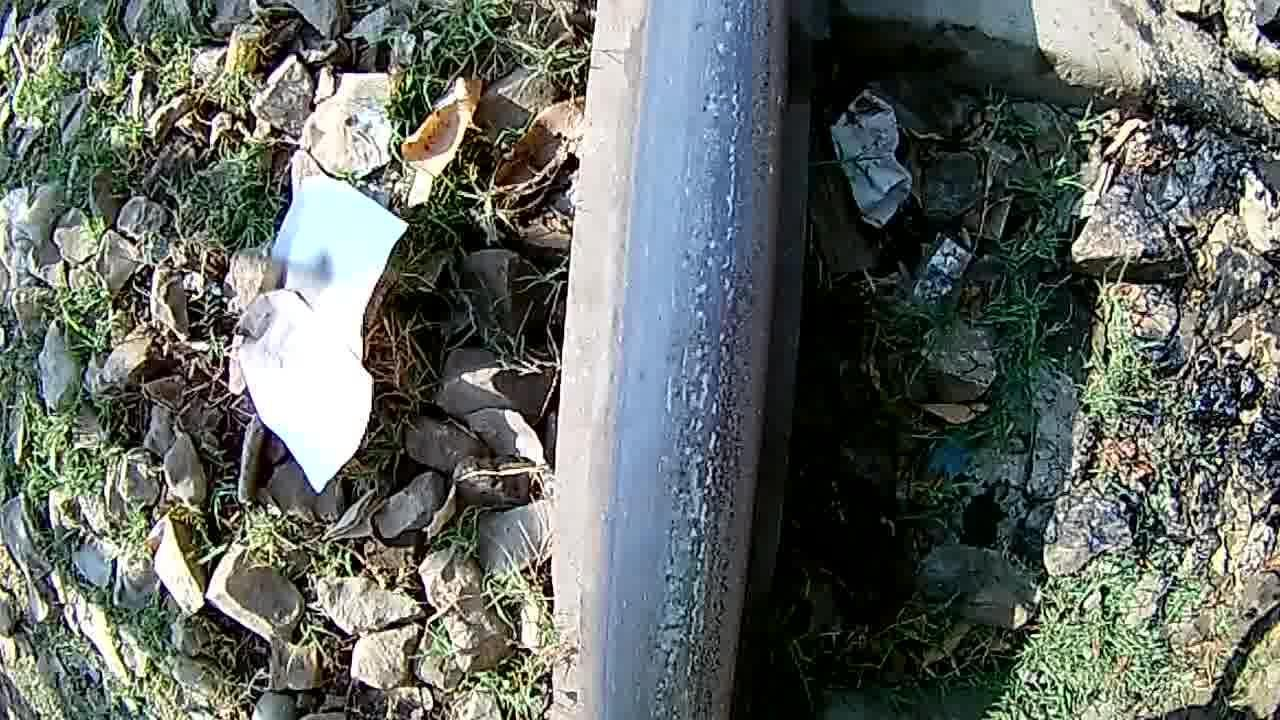crack: (633, 0, 765, 716)
